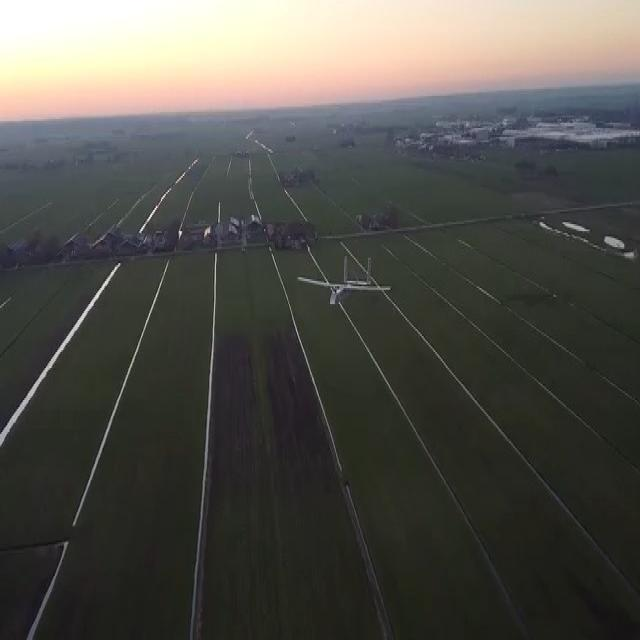drones: (296, 247, 393, 310)
